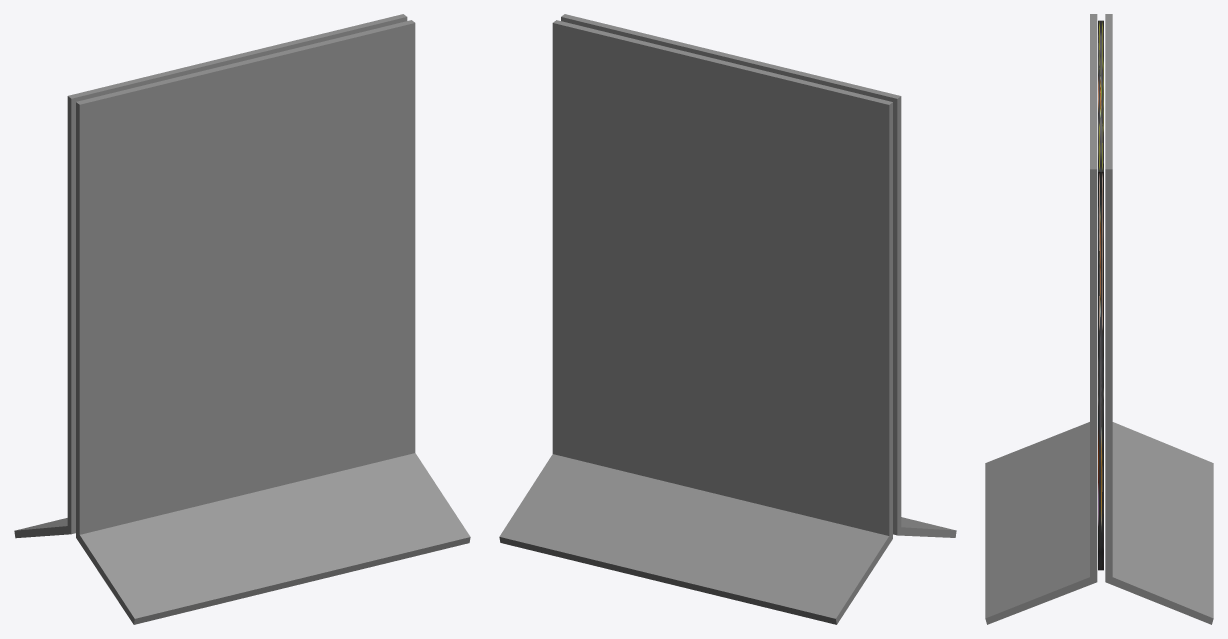
The model's file is Menu.FBX.
3 views of the same model, side by side, from view 1: azimuth 30°, elevation 25°; view 2: azimuth 150°, elevation 25°; view 3: azimuth 270°, elevation 25° (orthographic). The views are drawn at different scales.
Visible parts, largest first — view 1: Menu; view 2: Menu; view 3: Menu.
Part boxes in pixels (x1,y1,x2,y2): Menu: (14,14,470,624); Menu: (499,14,956,624); Menu: (985,14,1213,624).
Bounding box in the file's own units: 18.99 × 25.97 × 11.8.
2 materials, 1 textured.
